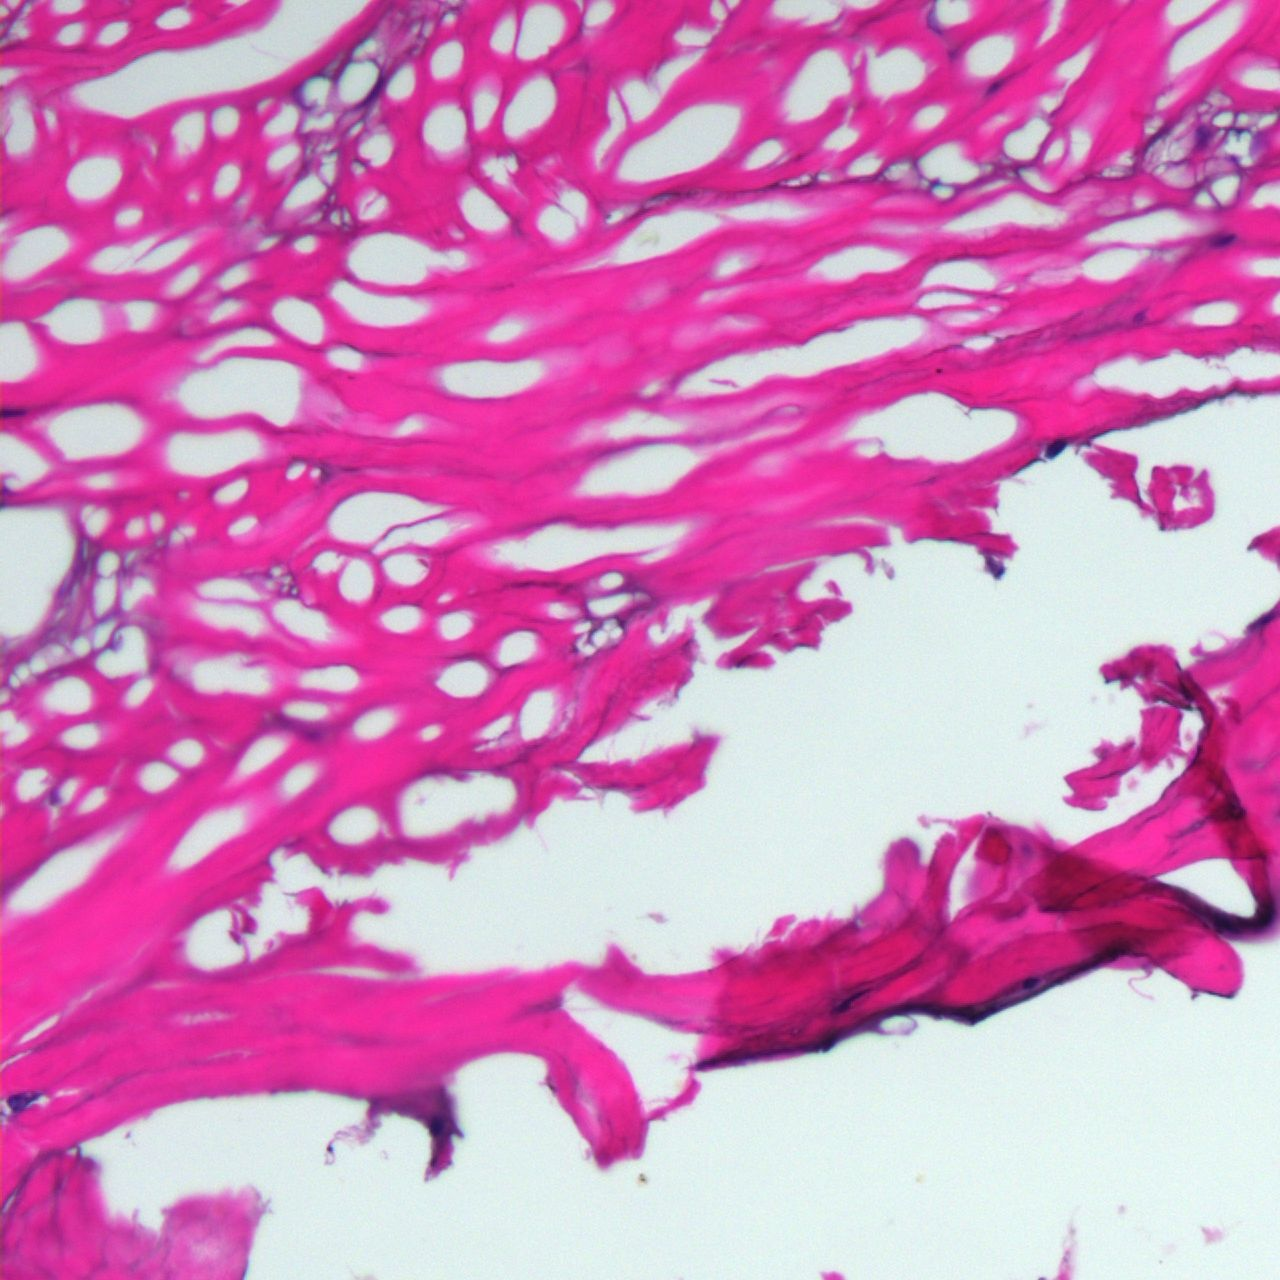nucleus-HE: (4, 1083, 46, 1117), (828, 985, 870, 1017), (1039, 433, 1071, 463), (978, 73, 1010, 102), (1246, 607, 1278, 636), (817, 1026, 840, 1054), (1210, 229, 1238, 251), (0, 404, 28, 418), (430, 1115, 445, 1137), (1023, 976, 1040, 987)
